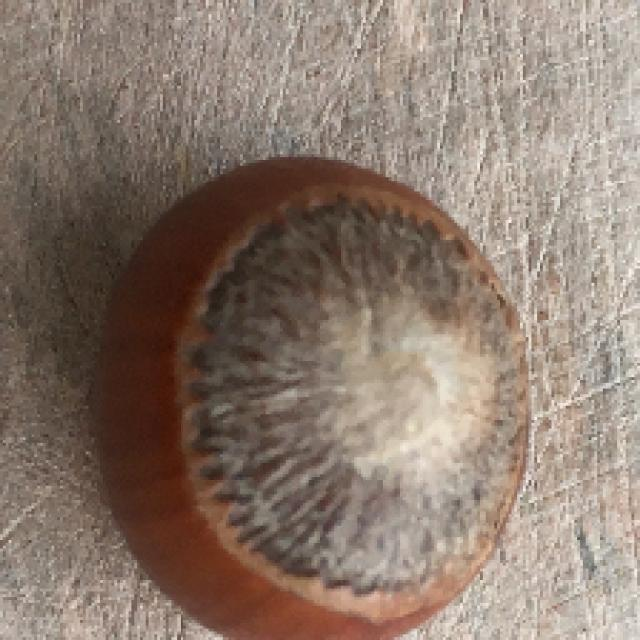DamagedHazelnut: (97, 156, 530, 637)
